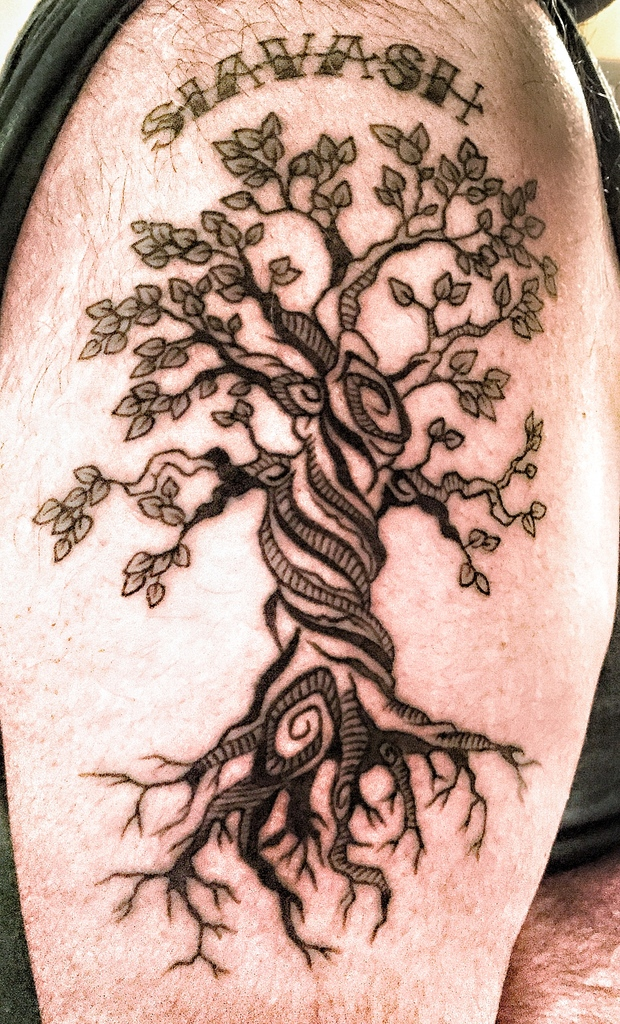Tree: (32, 111, 557, 980)
